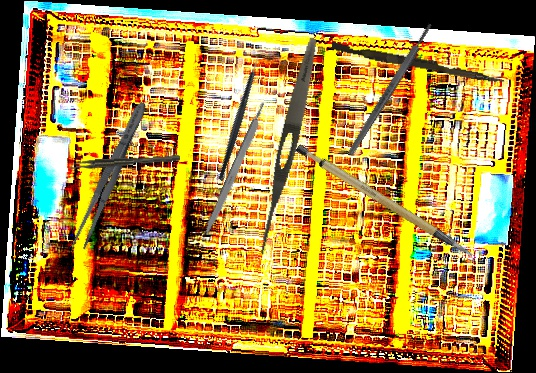Chopper: (177, 48, 298, 181)
Dressing Forceps: (253, 36, 323, 257), (69, 98, 152, 252)
Pusher: (330, 41, 506, 85)
Scalpel Handle: (293, 123, 474, 283), (346, 22, 435, 156), (201, 100, 270, 240)
Tissue Forceps: (67, 155, 181, 170)
